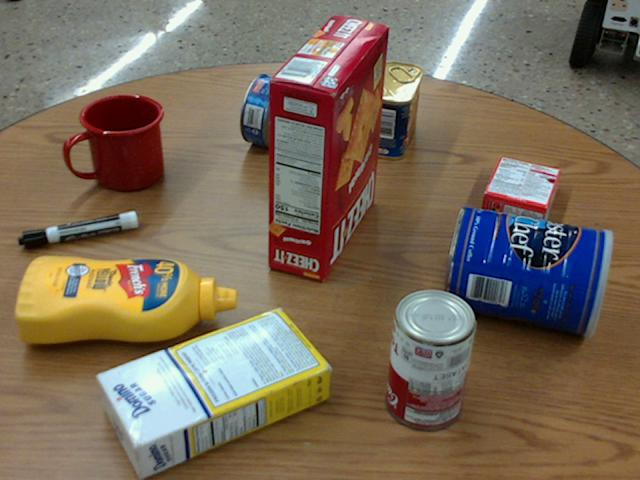cracker_box: (268, 13, 388, 279)
gelatin_box: (481, 154, 559, 225)
large_marker: (19, 210, 137, 248)
master_chef_can: (445, 203, 614, 335)
mug: (66, 95, 163, 191)
mustard_bottle: (16, 254, 236, 344)
potted_meat_can: (366, 61, 422, 159)
sugar_box: (93, 307, 328, 477)
tomato_soup_can: (388, 286, 476, 428)
tuna_fish_can: (239, 73, 294, 147)
